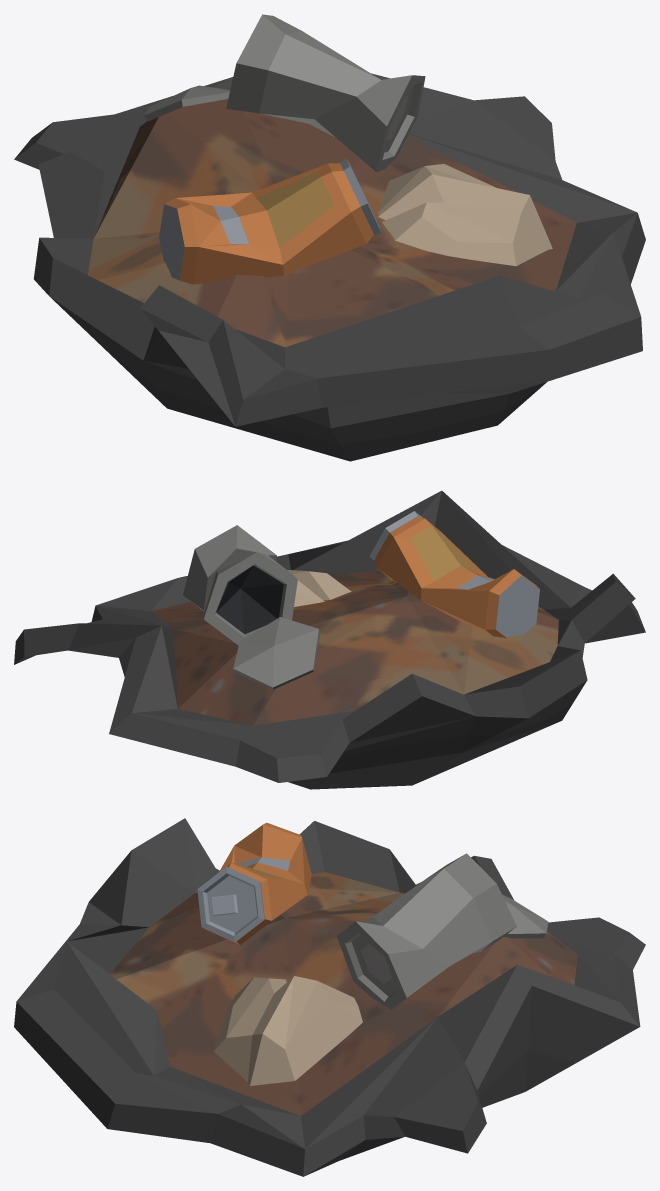
File: SM_Prop_TrashBag_01_1240.obj
3 views of the same model, one above another, from view 1: azimuth 30°, elevation 25°; view 2: azimuth 150°, elevation 25°; view 3: azimuth 270°, elevation 25° (orthographic). The views are drawn at different scales.
Parts seen in each view (by area): view 1: SM_Prop_TrashBag_01_0; view 2: SM_Prop_TrashBag_01_0; view 3: SM_Prop_TrashBag_01_0.
Boxes of the visible parts, x1,y1,x2,y2 form: SM_Prop_TrashBag_01_0: (14,14,645,461); SM_Prop_TrashBag_01_0: (14,490,645,789); SM_Prop_TrashBag_01_0: (14,818,645,1176).
Size of the model in its own units: 0.8365 by 0.3823 by 0.8821.
Materials: 1 (1 with a texture image).
